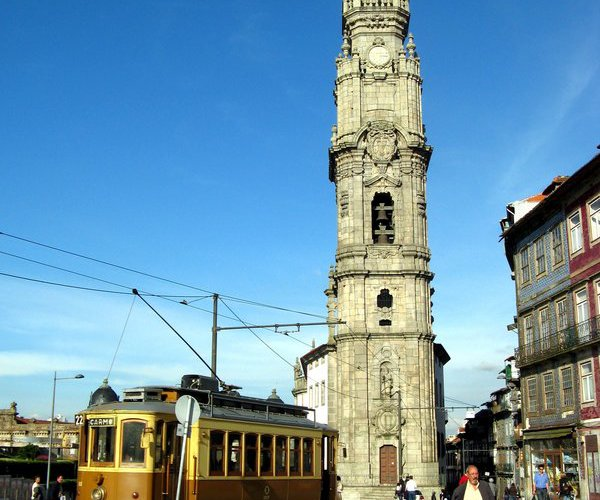clerigos: (323, 0, 444, 487)
